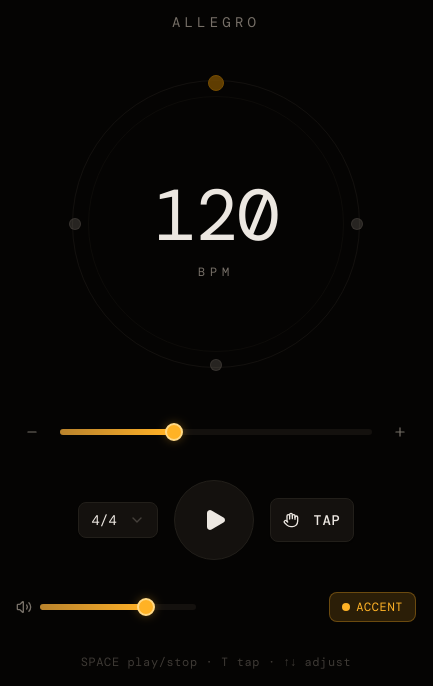
Test: Metronome component › play/stop button › toggles back from Stop to Start
The image size is (433, 686).
What coordinates should you click on to do the following:
click the button named "start"
I would click on:
 (214, 520)
Its box is [174, 480, 254, 560].
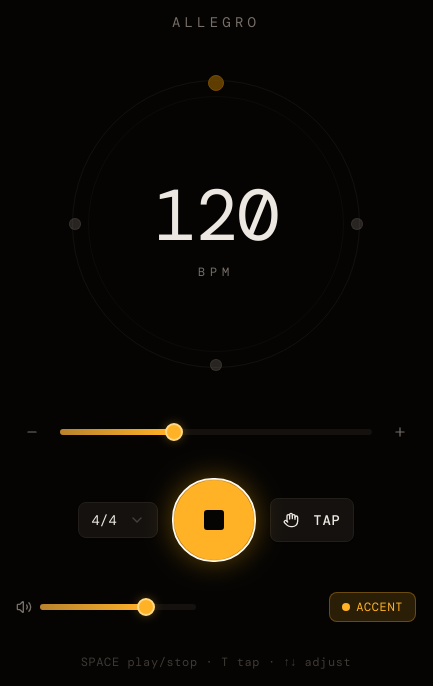
What coordinates should you click on to do the following:
click the button named "stop"
I would click on:
 (214, 520)
Its box is [174, 480, 254, 560].
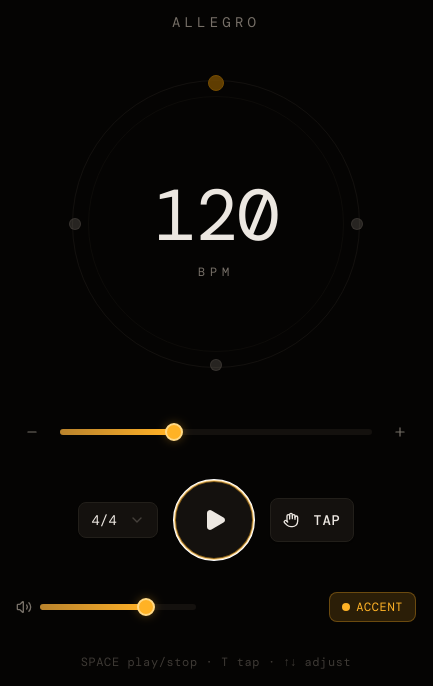
Result: the button named "start" is shown at [174, 480, 254, 560]
